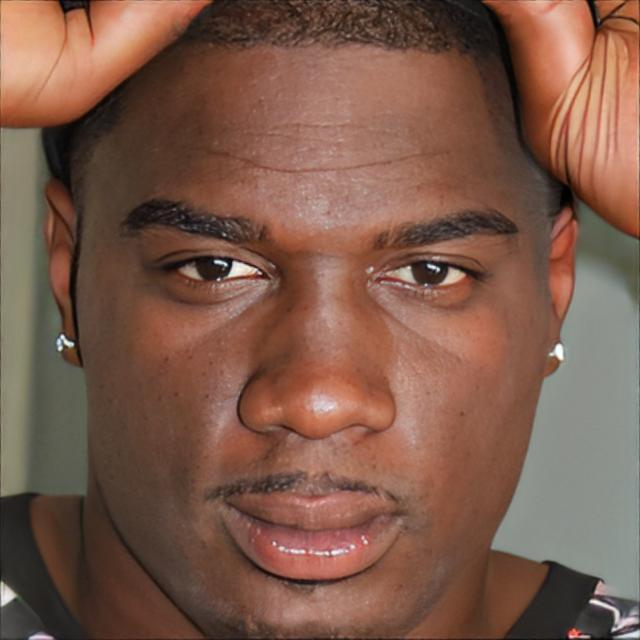happy: (88, 48, 542, 640)
